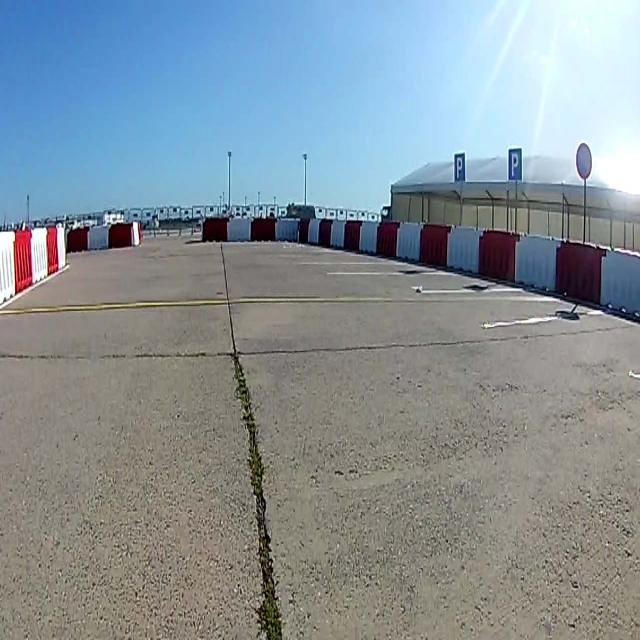park: (508, 148, 521, 180), (454, 152, 464, 180)
